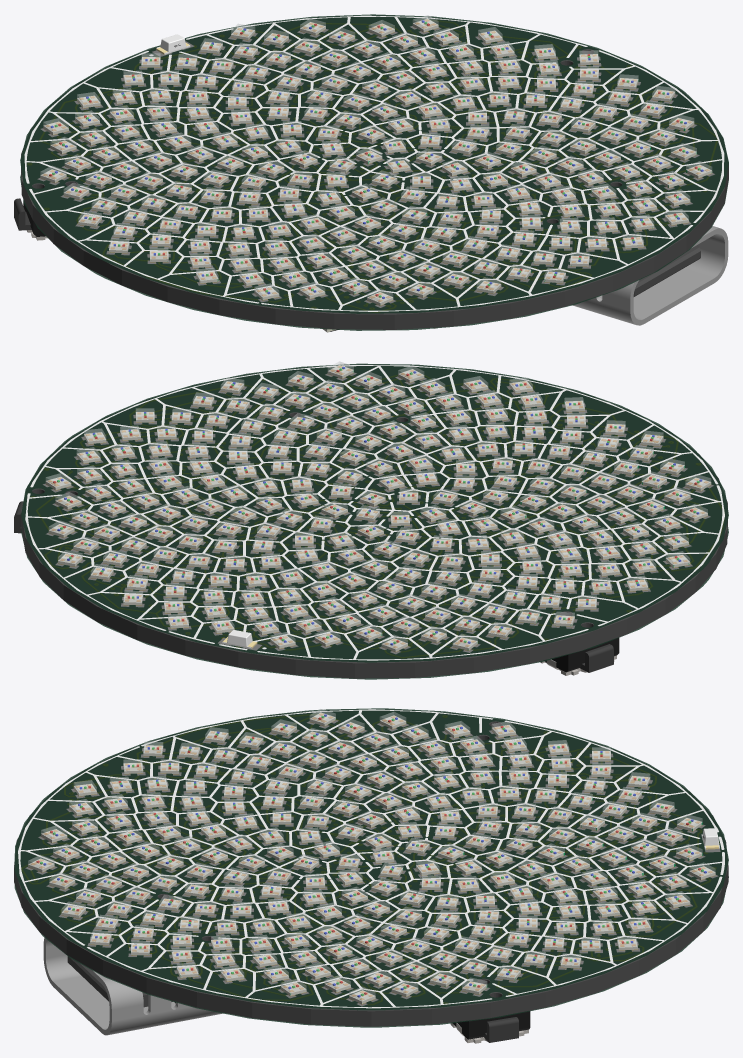
Rendered from board.glb.
3 views of the same model, one above another, from view 1: azimuth 30°, elevation 25°; view 2: azimuth 150°, elevation 25°; view 3: azimuth 270°, elevation 25° (orthographic).
Parts seen in each view (by area): view 1: round-pendant_soldermask (×2), round-pendant_PCB, round-pendant_silkscreen, round-pendant_pad, USB-C-SMD_TYPE-C-31-M-22, round-pendant_copper, SW-SMD_EVQP7C01P-L3.6-W3.5-H1.4-P3.6-LS4.7; view 2: round-pendant_soldermask (×2), round-pendant_PCB, round-pendant_silkscreen, round-pendant_pad, round-pendant_copper, SW-SMD_EVQP7C01P-L3.6-W3.5-H1.4-P3.6-LS4.7; view 3: round-pendant_soldermask (×2), round-pendant_PCB, round-pendant_silkscreen, round-pendant_pad, USB-C-SMD_TYPE-C-31-M-22, round-pendant_copper, SW-SMD_EVQP7C01P-L3.6-W3.5-H1.4-P3.6-LS4.7.
Part boxes in pixels (x1,y1,x2,y2): round-pendant_soldermask (×2): (20, 14, 728, 330); round-pendant_PCB: (21, 17, 728, 329); round-pendant_silkscreen: (24, 15, 724, 311); round-pendant_pad: (37, 26, 714, 307); USB-C-SMD_TYPE-C-31-M-22: (572, 226, 728, 325); round-pendant_copper: (27, 21, 717, 312); SW-SMD_EVQP7C01P-L3.6-W3.5-H1.4-P3.6-LS4.7: (14, 198, 47, 240); round-pendant_soldermask (×2): (21, 363, 728, 679); round-pendant_PCB: (21, 366, 727, 678); round-pendant_silkscreen: (25, 365, 724, 660); round-pendant_pad: (43, 372, 713, 654); round-pendant_copper: (36, 375, 722, 657); SW-SMD_EVQP7C01P-L3.6-W3.5-H1.4-P3.6-LS4.7: (540, 638, 619, 675); round-pendant_soldermask (×2): (14, 708, 728, 1027); round-pendant_PCB: (14, 711, 728, 1026); round-pendant_silkscreen: (18, 709, 724, 1008); round-pendant_pad: (25, 720, 720, 1006); USB-C-SMD_TYPE-C-31-M-22: (43, 937, 222, 1035); round-pendant_copper: (22, 715, 719, 1004); SW-SMD_EVQP7C01P-L3.6-W3.5-H1.4-P3.6-LS4.7: (450, 1011, 530, 1043).
Size of the model in its own units: 0.038 by 0.00488 by 0.038.
